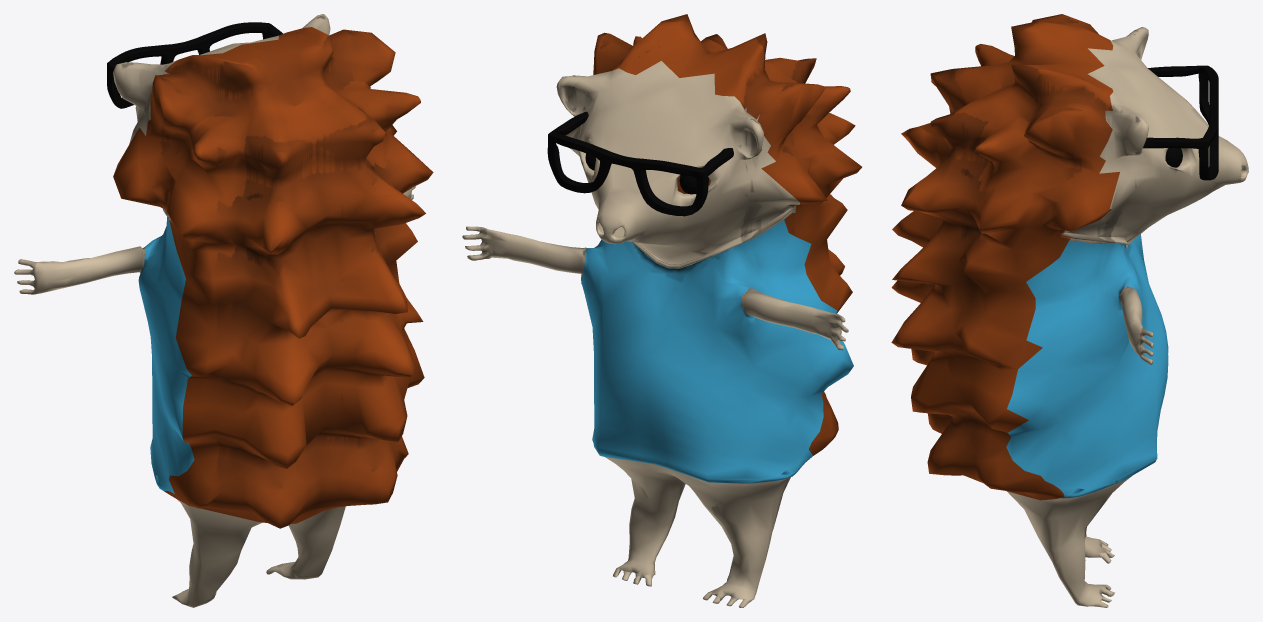
3 views of the same model, side by side, from view 1: azimuth 30°, elevation 25°; view 2: azimuth 150°, elevation 25°; view 3: azimuth 270°, elevation 25° (orthographic). The views are drawn at different scales.
Visible parts, largest first — view 1: Erizo, Gafas; view 2: Erizo, Gafas; view 3: Erizo, Gafas.
Part boxes in pixels (<box>): Erizo: <box>14,14,433,607</box>; Gafas: <box>107,22,283,108</box>; Erizo: <box>462,14,861,607</box>; Gafas: <box>547,111,733,216</box>; Erizo: <box>891,14,1248,607</box>; Gafas: <box>1143,65,1218,180</box>.
Bounding box in the file's own units: 1.44 × 1.16 × 1.9.
